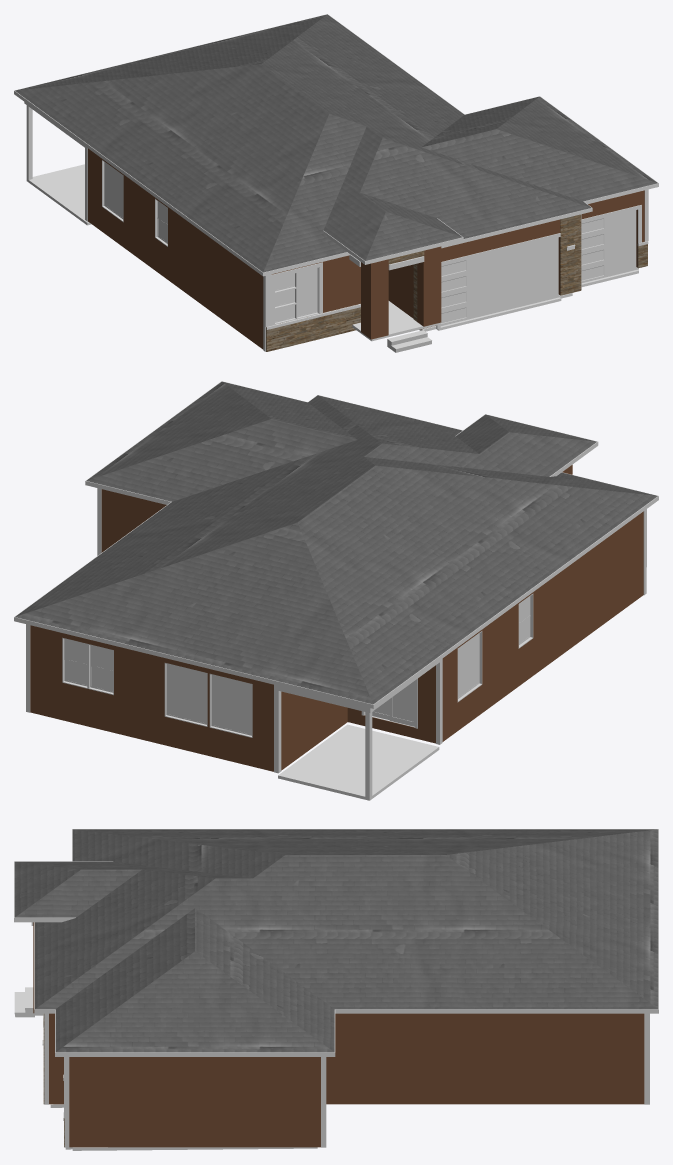
File: 140-1584-dm-modern-prairie.glb
3 renders of one model, top to bottom at view 1: azimuth 30°, elevation 25°; view 2: azimuth 150°, elevation 25°; view 3: azimuth 270°, elevation 25°, orthographic. The views are drawn at different scales.
Parts seen in each view (by area): view 1: Basic Roof Wood Rafter 4" - Asphalt Shingle - Insulated_69f3, Basic Roof Wood Rafter 4" - Asphalt Shingle - Insulated_329a, Basic Roof Wood Rafter 4" - Asphalt Shingle - Insulated_1c94, Basic Wall BSB Exterior - Stud_5.5" - Sheathing_0.5" - _ee27, Modern - BSB Exterior - Overhead Garage Door -Clopay - _8ce1, Basic Roof Wood Rafter 4" - Asphalt Shingle - Insulated_eb6b, Fascia Fascia-Flat 1x6 w/12" Soffit Bd [4422312], Modern - BSB Exterior - Overhead Garage Door -Clopay - _e1a3, Basic Wall BSB Exterior - Stud_5.5" - Sheathing_0.5" - _47e0, Basic Wall BSB Exterior - Stone Veneer_2" [4574946], Basic Wall BSB Exterior - Stud_5.5" - Sheathing_0.5" - _fae0, Floor BSB Concrete Slab - 4" - Slope Option [4252595] (+19 smaller); view 2: Basic Roof Wood Rafter 4" - Asphalt Shingle - Insulated_69f3, Basic Roof Wood Rafter 4" - Asphalt Shingle - Insulated_1c94, Basic Wall BSB Exterior - Stud_5.5" - Sheathing_0.5" - _ff8a, Basic Wall BSB Exterior - Stud_5.5" - Sheathing_0.5" - _ee27, Floor BSB Concrete Slab - 4" - Slope Option [4252595], Basic Roof Wood Rafter 4" - Asphalt Shingle - Insulated_329a, Basic Roof Wood Rafter 4" - Asphalt Shingle - Insulated_eb6b, Fascia Fascia-Flat 1x6 w/12" Soffit Bd [4422312], Basic Wall BSB Exterior - Stud_5.5" - Sheathing_0.5" - _47e0, Basic Wall BSB Exterior - Stud_5.5" - Sheathing_0.5" - _cf53, BSB Fixed 5060 FX w/ Sill [4252621], BSB Fixed 5060 FX w/ Sill [4252614] (+11 smaller); view 3: Basic Roof Wood Rafter 4" - Asphalt Shingle - Insulated_69f3, Basic Wall BSB Exterior - Stud_5.5" - Sheathing_0.5" - _f144, Basic Roof Wood Rafter 4" - Asphalt Shingle - Insulated_1c94, Basic Wall BSB Exterior - Stud_3.5" - Sheathing_0.5" - _c112, Basic Roof Wood Rafter 4" - Asphalt Shingle - Insulated_329a, Basic Wall BSB Exterior - Stud_3.5" - Sheathing_0.5" - _e595, Basic Roof Wood Rafter 4" - Asphalt Shingle - Insulated_eb6b, Fascia Fascia-Flat 1x6 w/12" Soffit Bd [4422312], Trim - Corner Boards2 Trim - Corner Boards [4420256], Basic Wall BSB Exterior - Stud_3.5" - Sheathing_0.5" - _7eee, Floor BSB Concrete Slab - 4" - Slope Option [4259965], Cast-In-Place Stair Stair [4574441].
Boxes of the visible parts, x1=… form: Basic Roof Wood Rafter 4" - Asphalt Shingle - Insulated_69f3: x1=15, y1=14, x2=464, y2=272; Basic Roof Wood Rafter 4" - Asphalt Shingle - Insulated_329a: x1=344, y1=126, x2=591, y2=238; Basic Roof Wood Rafter 4" - Asphalt Shingle - Insulated_1c94: x1=421, y1=96, x2=657, y2=201; Basic Wall BSB Exterior - Stud_5.5" - Sheathing_0.5" - _ee27: x1=88, y1=148, x2=208, y2=309; Modern - BSB Exterior - Overhead Garage Door -Clopay - _8ce1: x1=436, y1=237, x2=559, y2=326; Basic Roof Wood Rafter 4" - Asphalt Shingle - Insulated_eb6b: x1=323, y1=181, x2=462, y2=260; Fascia Fascia-Flat 1x6 w/12" Soffit Bd [4422312]: x1=14, y1=14, x2=658, y2=276; Modern - BSB Exterior - Overhead Garage Door -Clopay - _e1a3: x1=581, y1=210, x2=637, y2=282; Basic Wall BSB Exterior - Stud_5.5" - Sheathing_0.5" - _47e0: x1=208, y1=237, x2=252, y2=341; Basic Wall BSB Exterior - Stone Veneer_2" [4574946]: x1=266, y1=304, x2=360, y2=351; Basic Wall BSB Exterior - Stud_5.5" - Sheathing_0.5" - _fae0: x1=271, y1=255, x2=360, y2=312; Floor BSB Concrete Slab - 4" - Slope Option [4252595]: x1=26, y1=164, x2=91, y2=225; Basic Roof Wood Rafter 4" - Asphalt Shingle - Insulated_69f3: x1=15, y1=443, x2=657, y2=704; Basic Roof Wood Rafter 4" - Asphalt Shingle - Insulated_1c94: x1=86, y1=381, x2=357, y2=501; Basic Wall BSB Exterior - Stud_5.5" - Sheathing_0.5" - _ff8a: x1=30, y1=626, x2=273, y2=771; Basic Wall BSB Exterior - Stud_5.5" - Sheathing_0.5" - _ee27: x1=434, y1=558, x2=579, y2=741; Floor BSB Concrete Slab - 4" - Slope Option [4252595]: x1=278, y1=724, x2=439, y2=800; Basic Roof Wood Rafter 4" - Asphalt Shingle - Insulated_329a: x1=308, y1=395, x2=478, y2=467; Basic Roof Wood Rafter 4" - Asphalt Shingle - Insulated_eb6b: x1=456, y1=414, x2=596, y2=476; Fascia Fascia-Flat 1x6 w/12" Soffit Bd [4422312]: x1=14, y1=381, x2=658, y2=708; Basic Wall BSB Exterior - Stud_5.5" - Sheathing_0.5" - _47e0: x1=580, y1=521, x2=630, y2=641; Basic Wall BSB Exterior - Stud_5.5" - Sheathing_0.5" - _cf53: x1=273, y1=684, x2=347, y2=770; BSB Fixed 5060 FX w/ Sill [4252621]: x1=209, y1=673, x2=252, y2=737; BSB Fixed 5060 FX w/ Sill [4252614]: x1=164, y1=663, x2=207, y2=726; Basic Roof Wood Rafter 4" - Asphalt Shingle - Insulated_69f3: x1=72, y1=829, x2=658, y2=1009; Basic Wall BSB Exterior - Stud_5.5" - Sheathing_0.5" - _f144: x1=326, y1=1013, x2=644, y2=1104; Basic Roof Wood Rafter 4" - Asphalt Shingle - Insulated_1c94: x1=55, y1=908, x2=334, y2=1052; Basic Wall BSB Exterior - Stud_3.5" - Sheathing_0.5" - _c112: x1=173, y1=1057, x2=320, y2=1147; Basic Roof Wood Rafter 4" - Asphalt Shingle - Insulated_329a: x1=35, y1=869, x2=252, y2=1009; Basic Wall BSB Exterior - Stud_3.5" - Sheathing_0.5" - _e595: x1=69, y1=1057, x2=172, y2=1147; Basic Roof Wood Rafter 4" - Asphalt Shingle - Insulated_eb6b: x1=14, y1=861, x2=178, y2=917; Fascia Fascia-Flat 1x6 w/12" Soffit Bd [4422312]: x1=14, y1=829, x2=658, y2=1056; Trim - Corner Boards2 Trim - Corner Boards [4420256]: x1=44, y1=1013, x2=649, y2=1147; Basic Wall BSB Exterior - Stud_3.5" - Sheathing_0.5" - _7eee: x1=49, y1=1013, x2=63, y2=1104; Floor BSB Concrete Slab - 4" - Slope Option [4259965]: x1=50, y1=1104, x2=317, y2=1150; Cast-In-Place Stair Stair [4574441]: x1=14, y1=987, x2=34, y2=1017.
Size of the model in its own units: 15.79 by 5.6 by 19.24.
3 materials, 2 textured.
